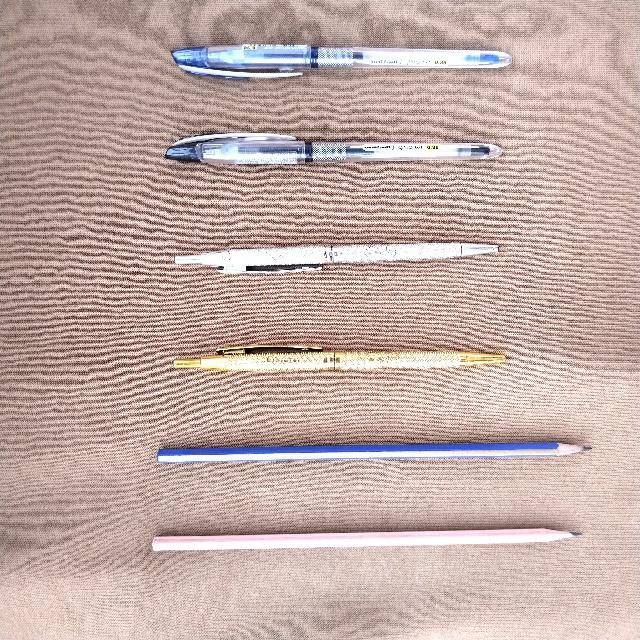pen: (172, 44, 511, 78), (165, 132, 501, 164)
pencil: (152, 528, 579, 550), (156, 442, 589, 462)
signature pen: (175, 243, 498, 273), (174, 345, 504, 371)
